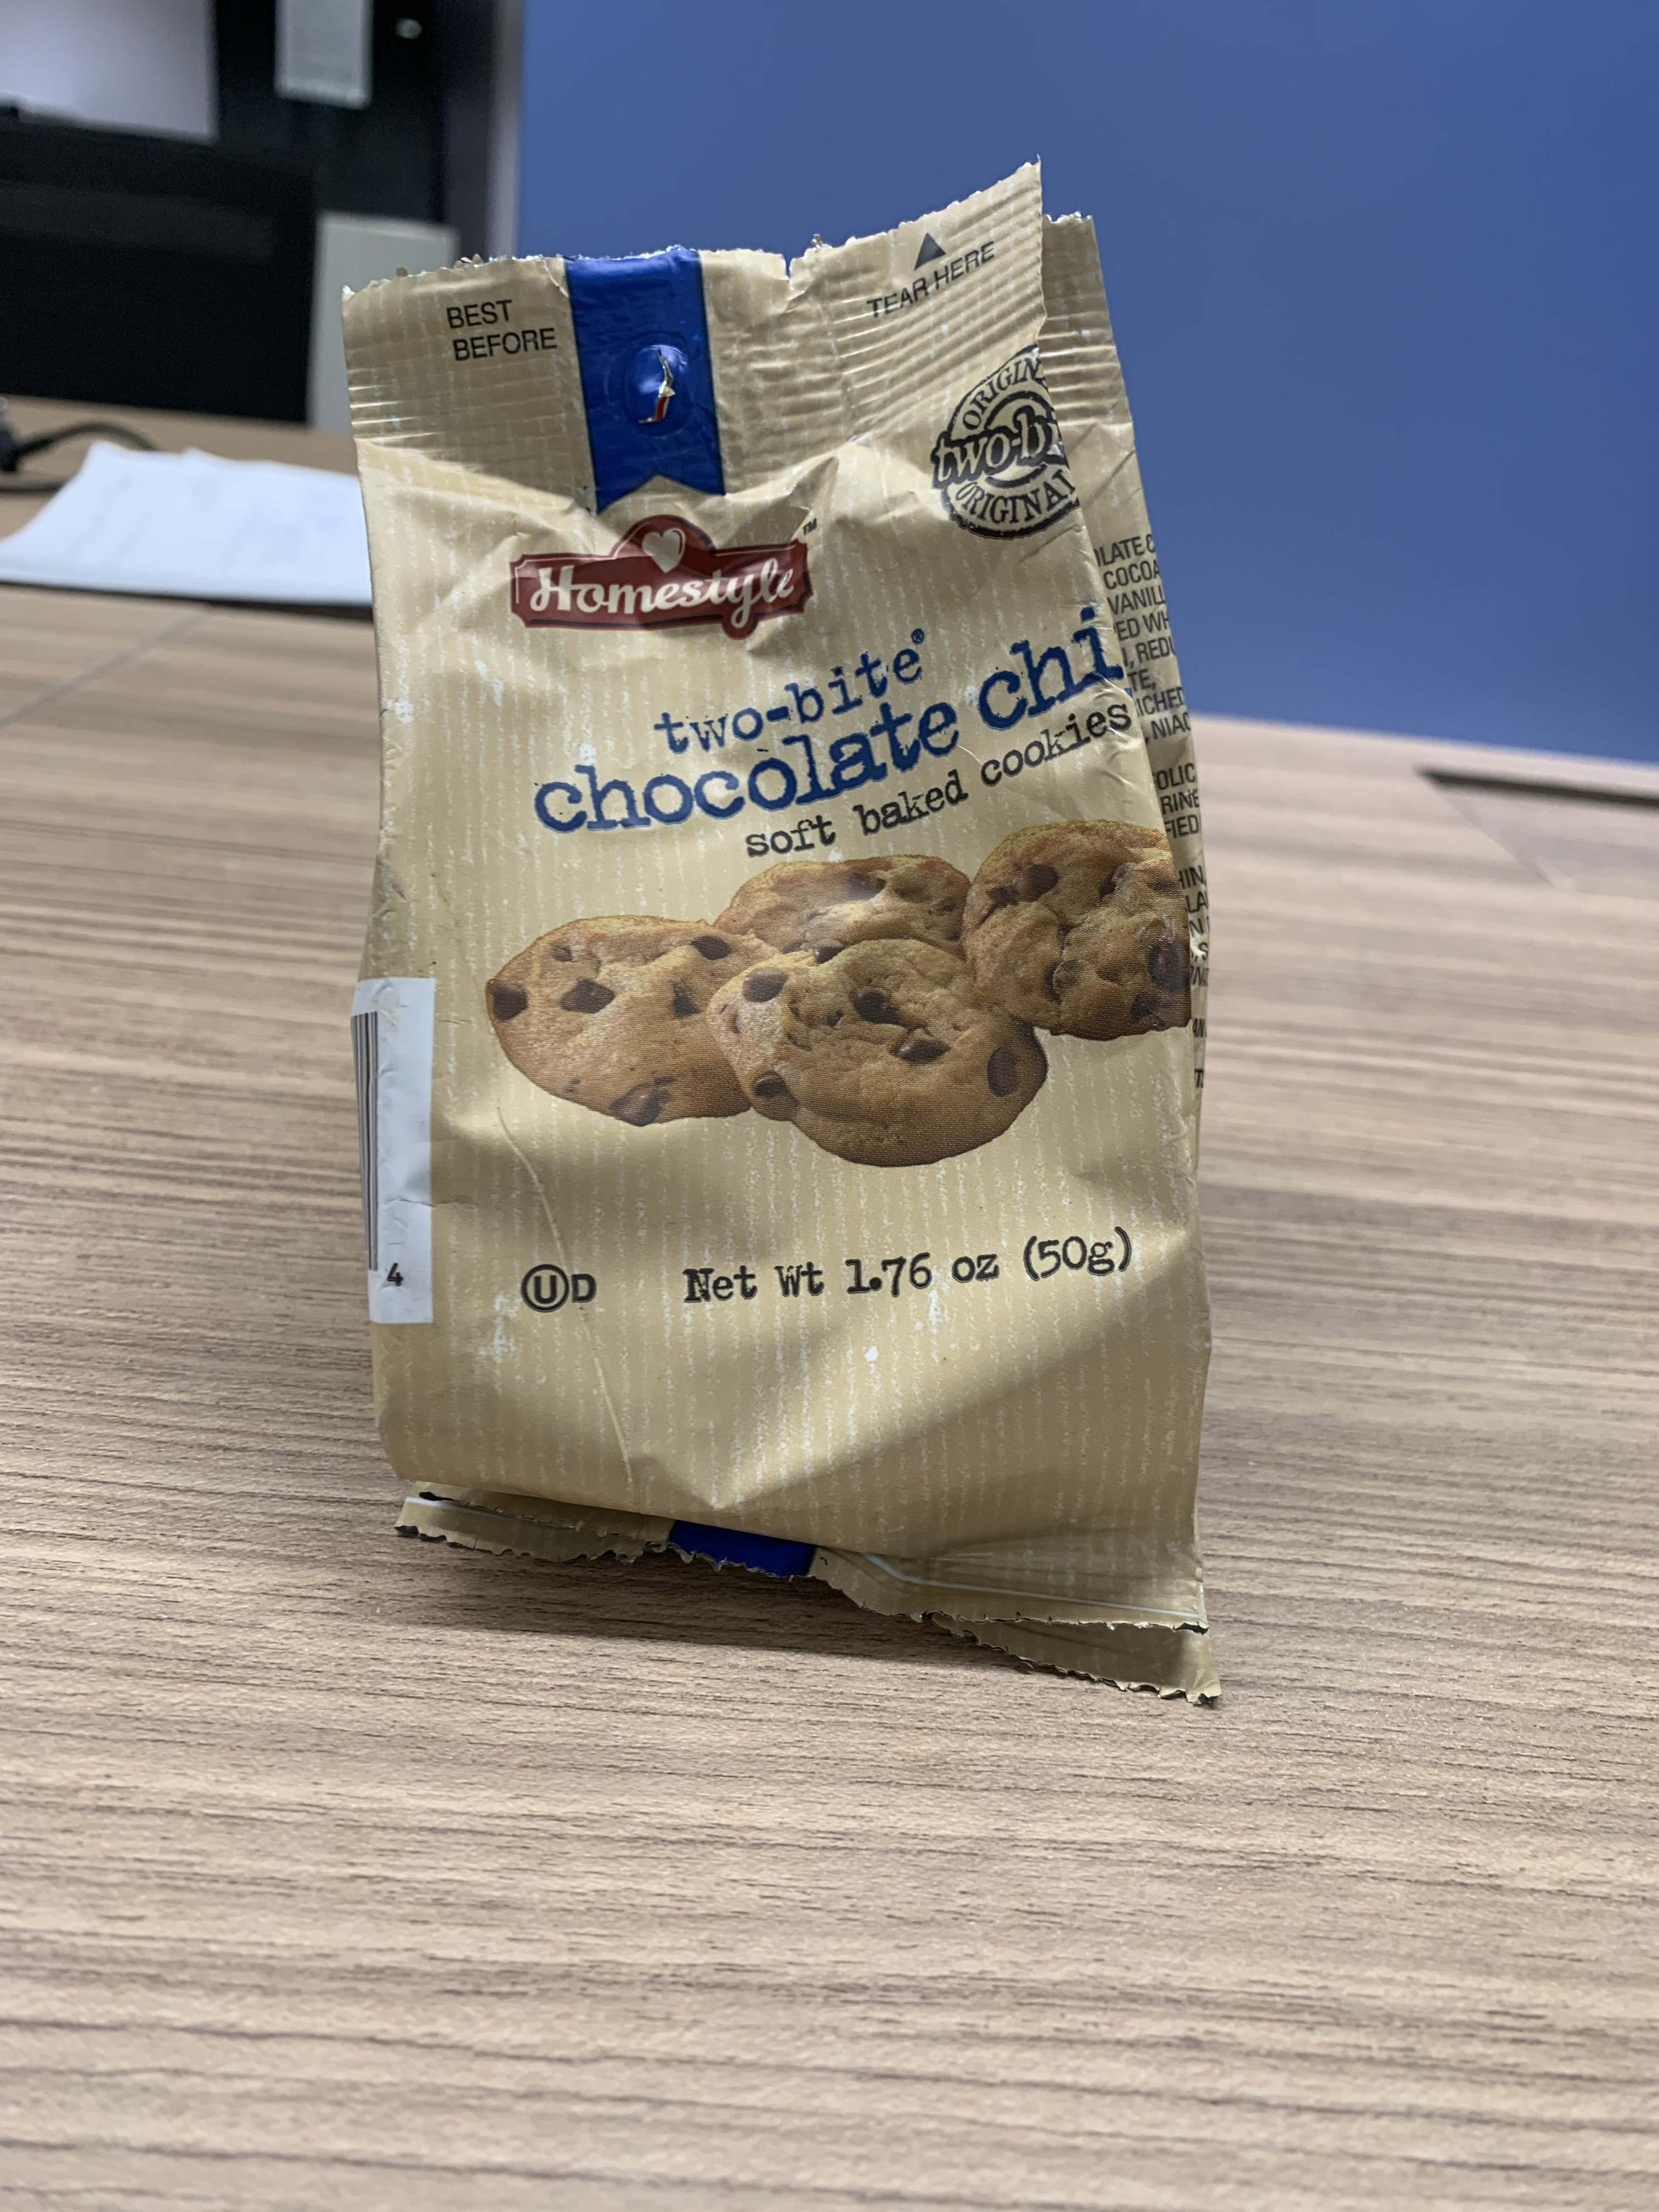cookies_1g-99g: (382, 277, 1190, 1576)
